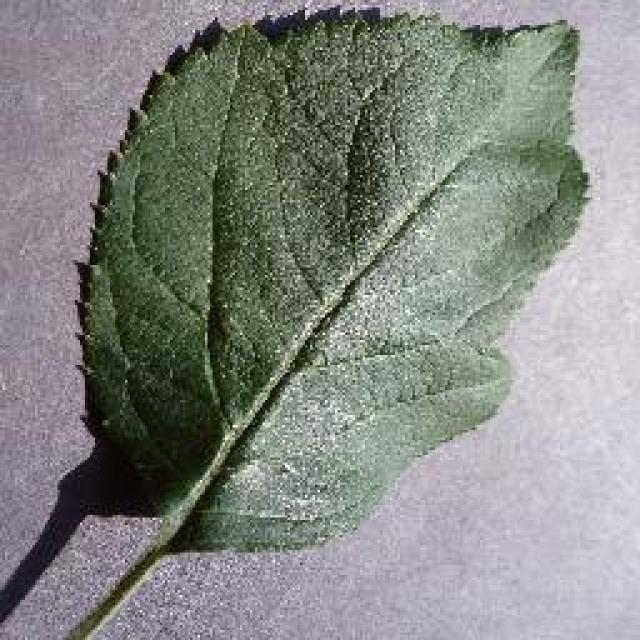apple healthy: (70, 0, 592, 558)
